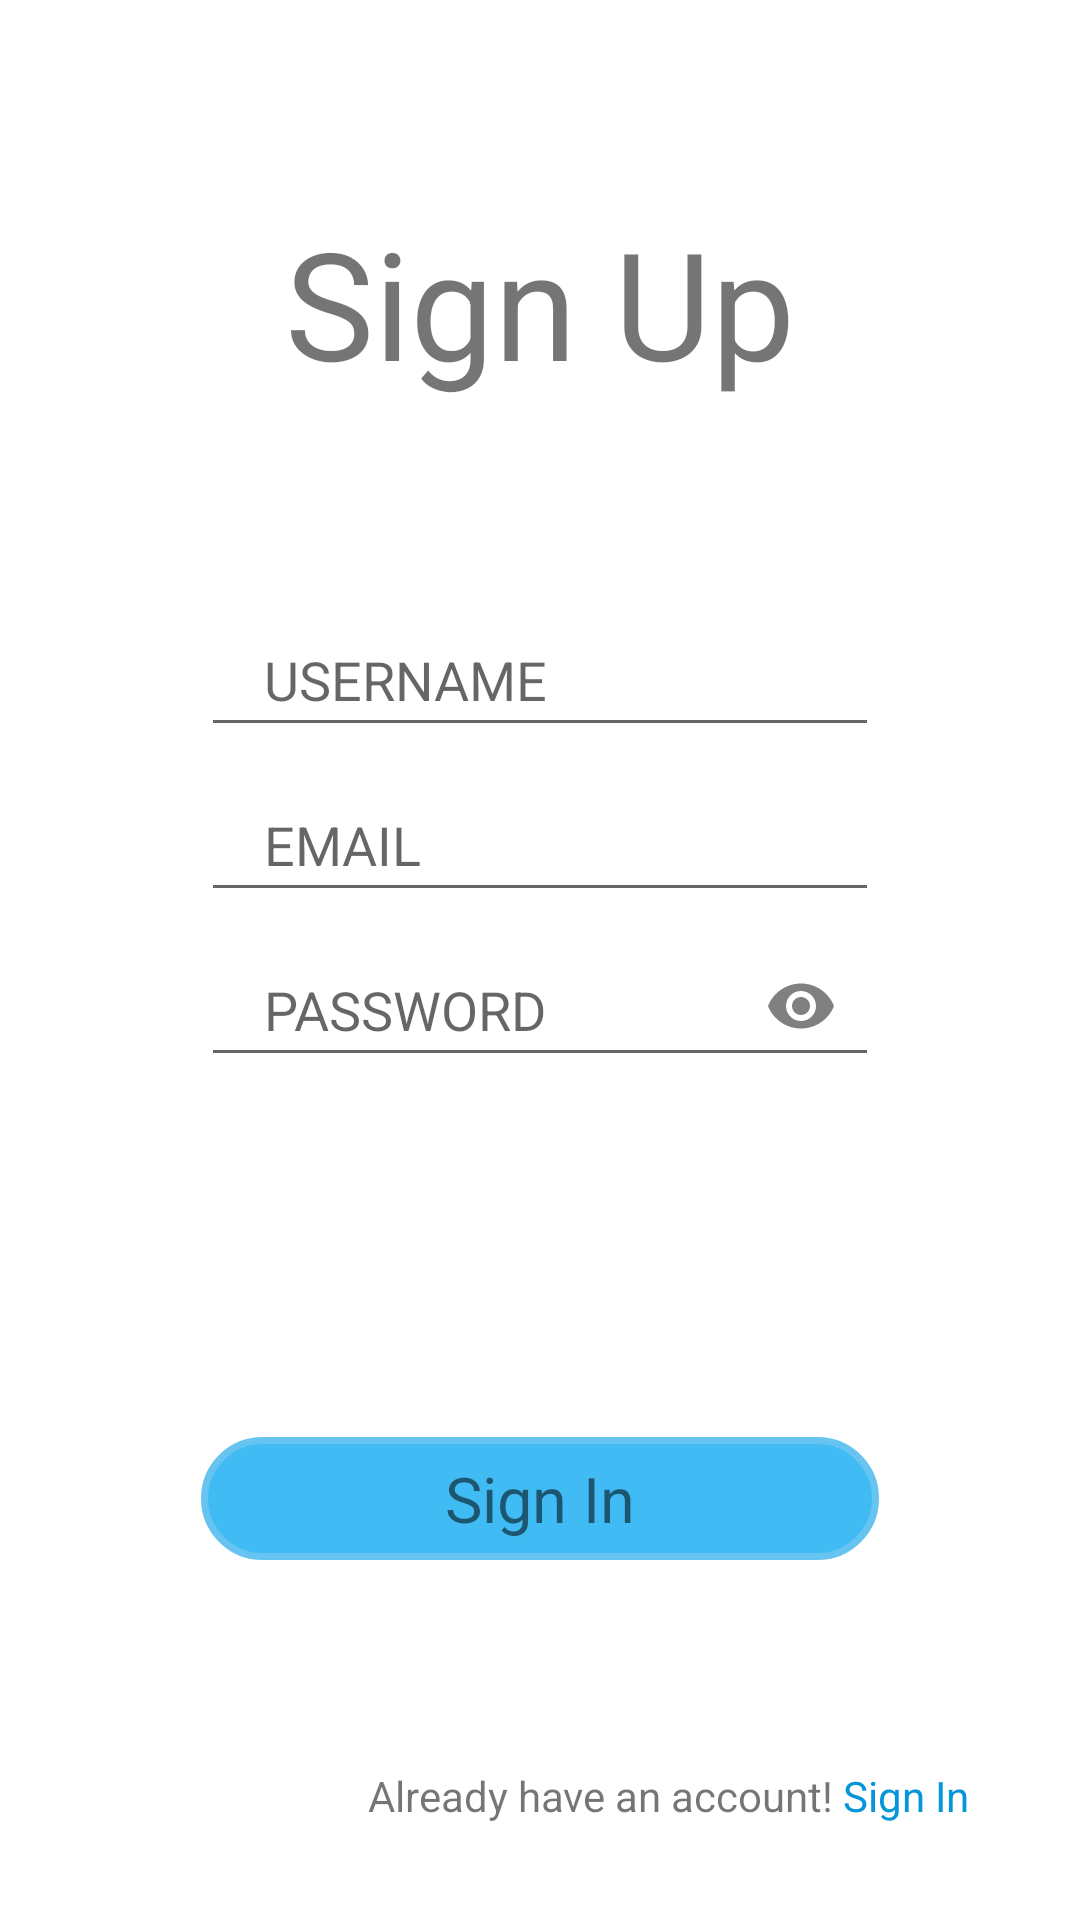

Named icons in this screenshot (1080×1920) and their centers, (x=x, y=y):
visibility: (x=801, y=1006)
